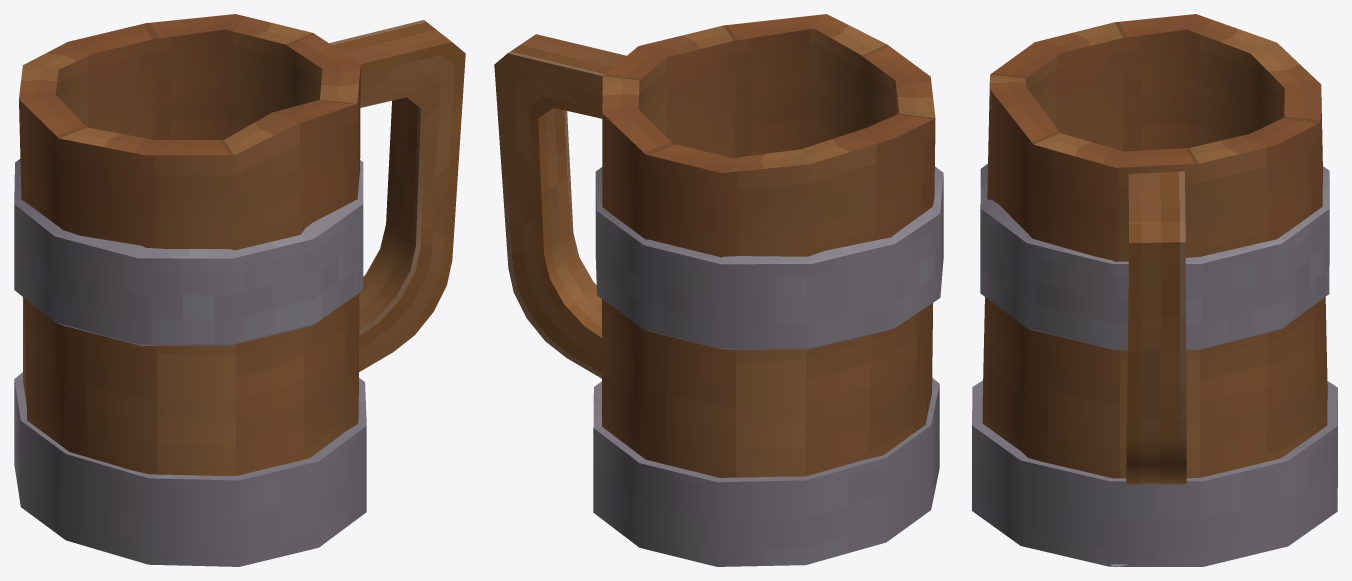
Rendered from cerveja.glb.
3 views of the same model, side by side, from view 1: azimuth 30°, elevation 25°; view 2: azimuth 150°, elevation 25°; view 3: azimuth 270°, elevation 25° (orthographic). The views are drawn at different scales.
Visible parts, largest first — view 1: Mug; view 2: Mug; view 3: Mug.
Boxes of the visible parts, bbox=[...] form: Mug: bbox=[14, 14, 465, 566]; Mug: bbox=[494, 14, 943, 566]; Mug: bbox=[972, 14, 1337, 566].
Bounding box in the file's own units: 0.14 × 0.134 × 0.107.
2 materials, 2 textured.
